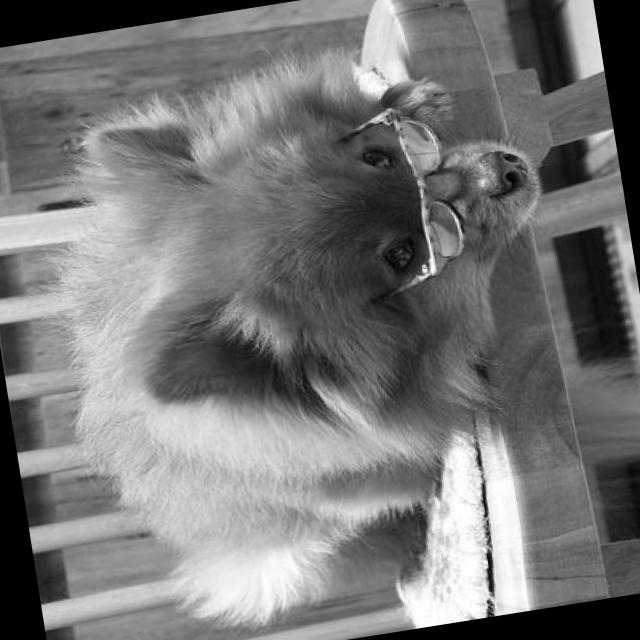laying down: (14, 8, 605, 640)
